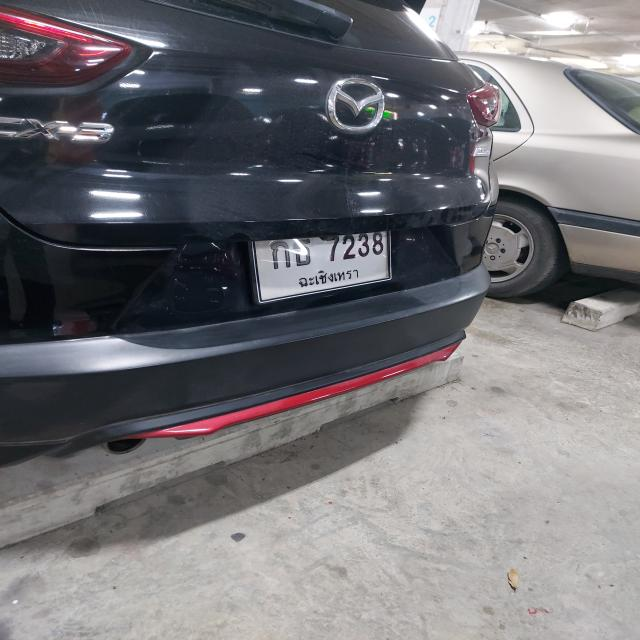license_plate: (255, 230, 391, 302)
